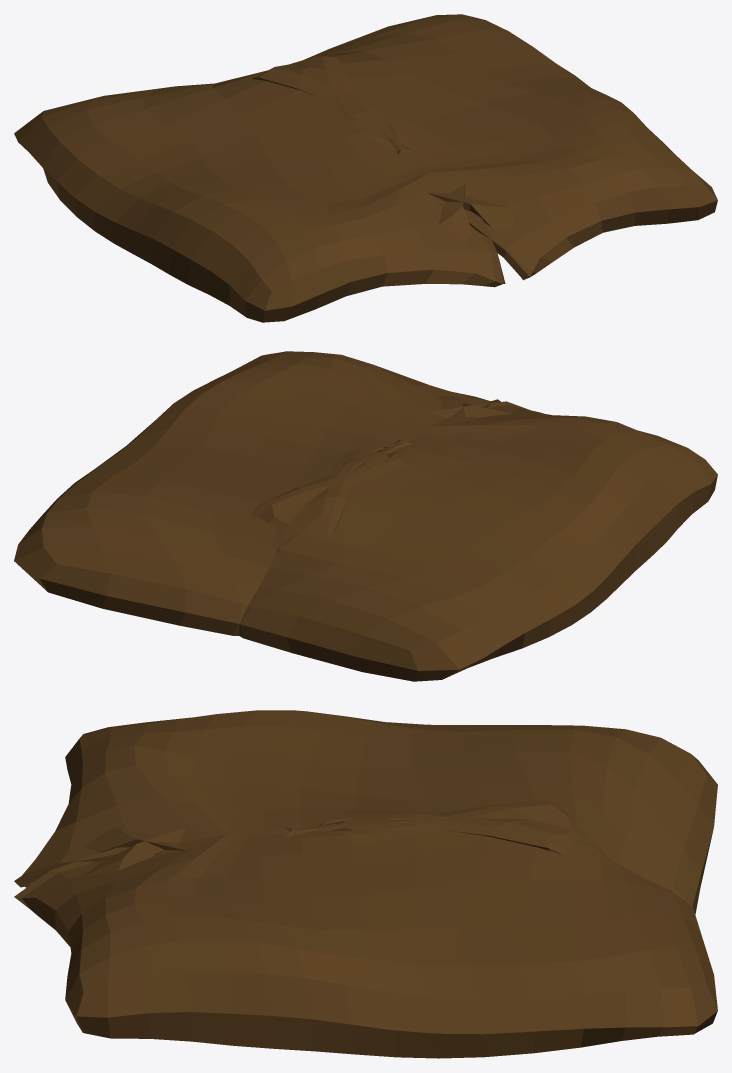
The model's file is Ground_Tile_Four.fbx.
3 views of the same model, one above another, from view 1: azimuth 30°, elevation 25°; view 2: azimuth 150°, elevation 25°; view 3: azimuth 270°, elevation 25° (orthographic). The views are drawn at different scales.
Visible parts, largest first — view 1: Cube.001; view 2: Cube.001; view 3: Cube.001.
Part boxes in pixels (<box>): Cube.001: <box>14,14,717,322</box>; Cube.001: <box>14,351,717,681</box>; Cube.001: <box>14,710,717,1058</box>.
Bounding box in the file's own units: 2828 × 472 × 2818.
